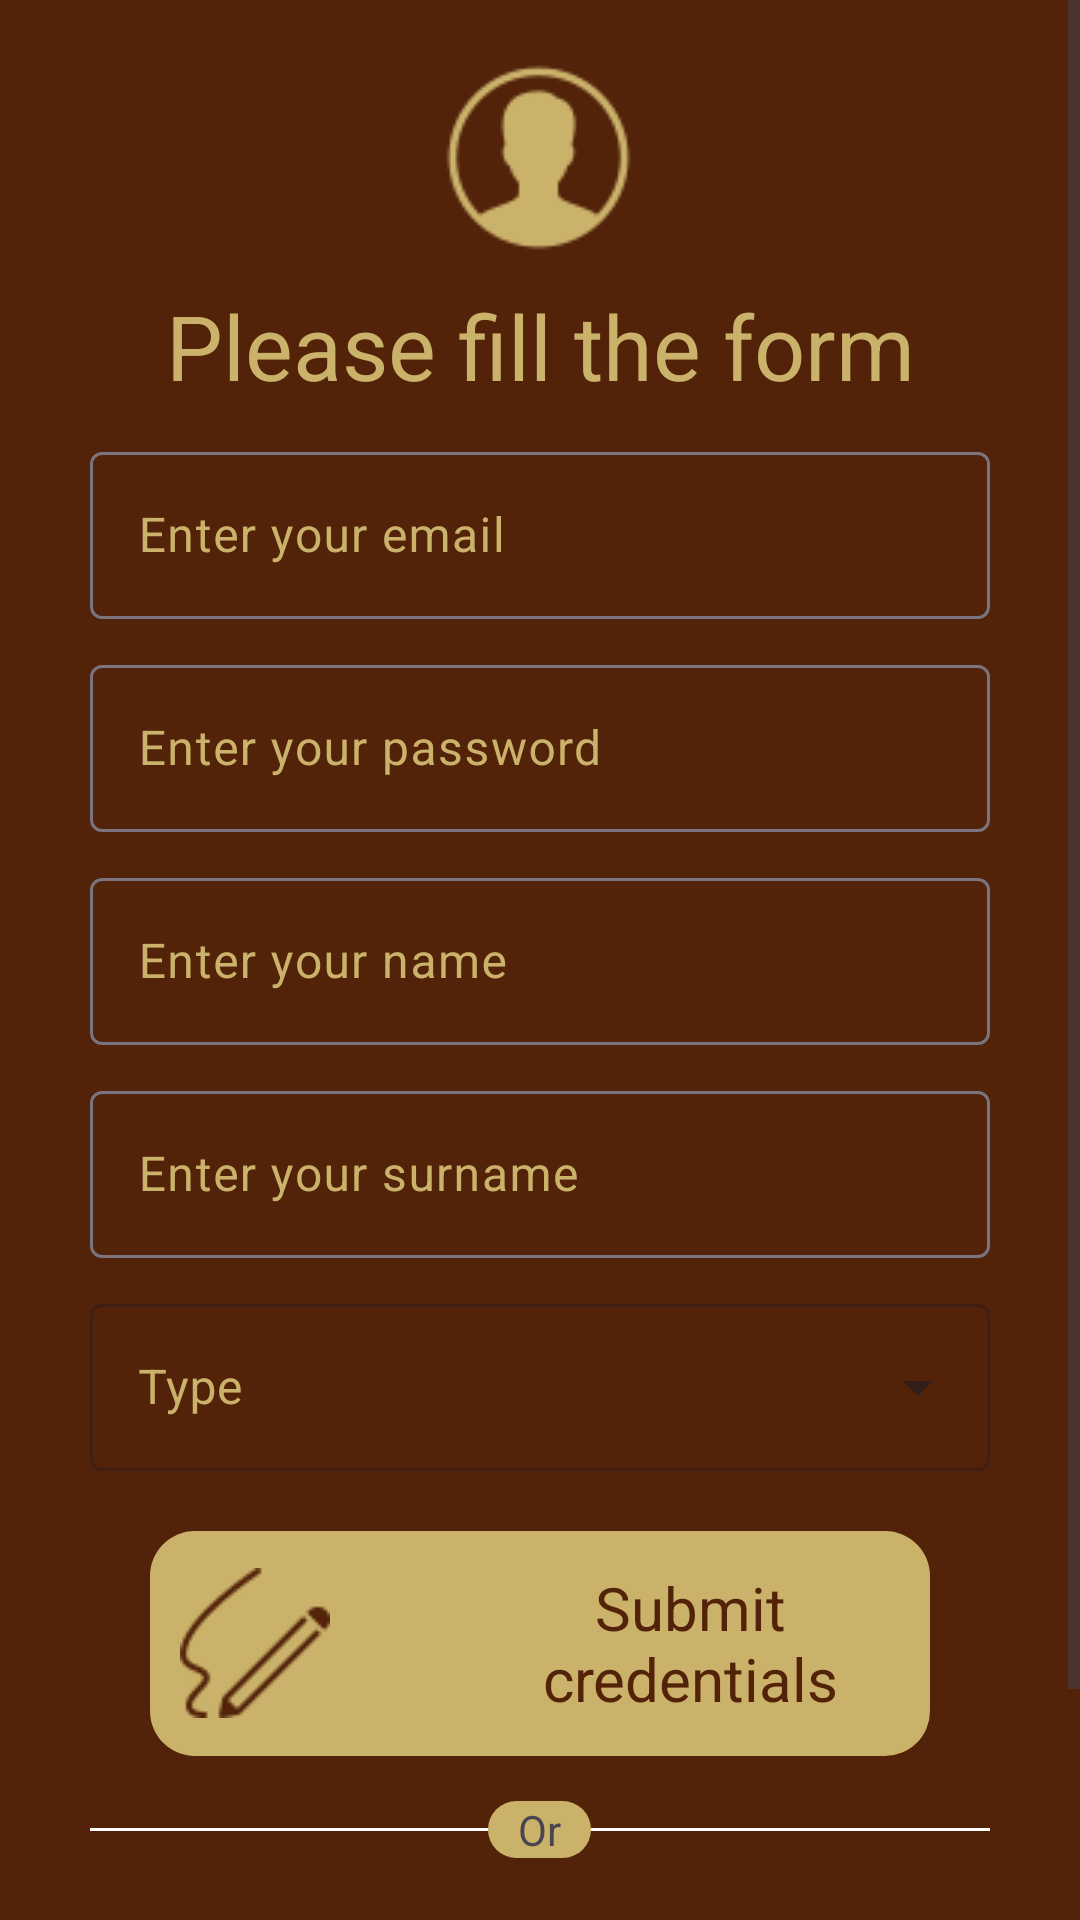

Locate icon controls on the screen. Image size 1080 × 1920, boxes as bbox=[x1, y1, x2, y2].
sign up: bbox=[180, 1568, 330, 1718]
user gold: bbox=[447, 66, 630, 249]
